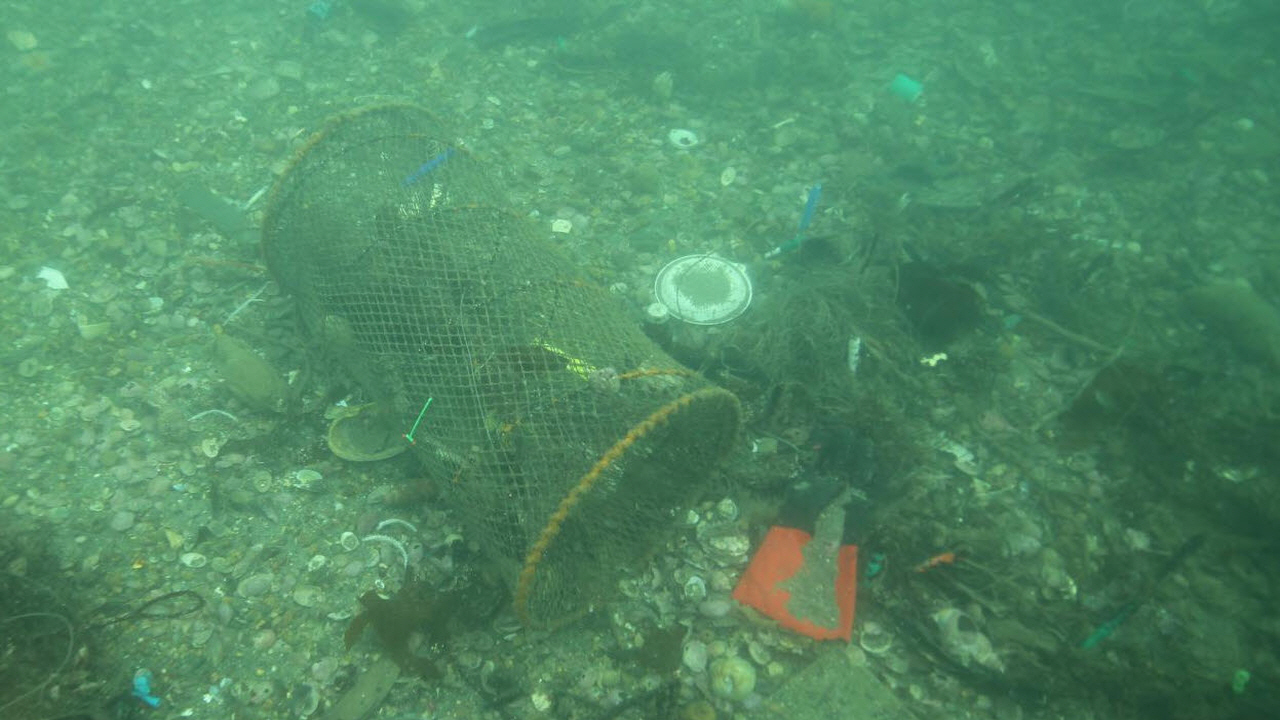spring fish trap: (256, 99, 744, 631)
